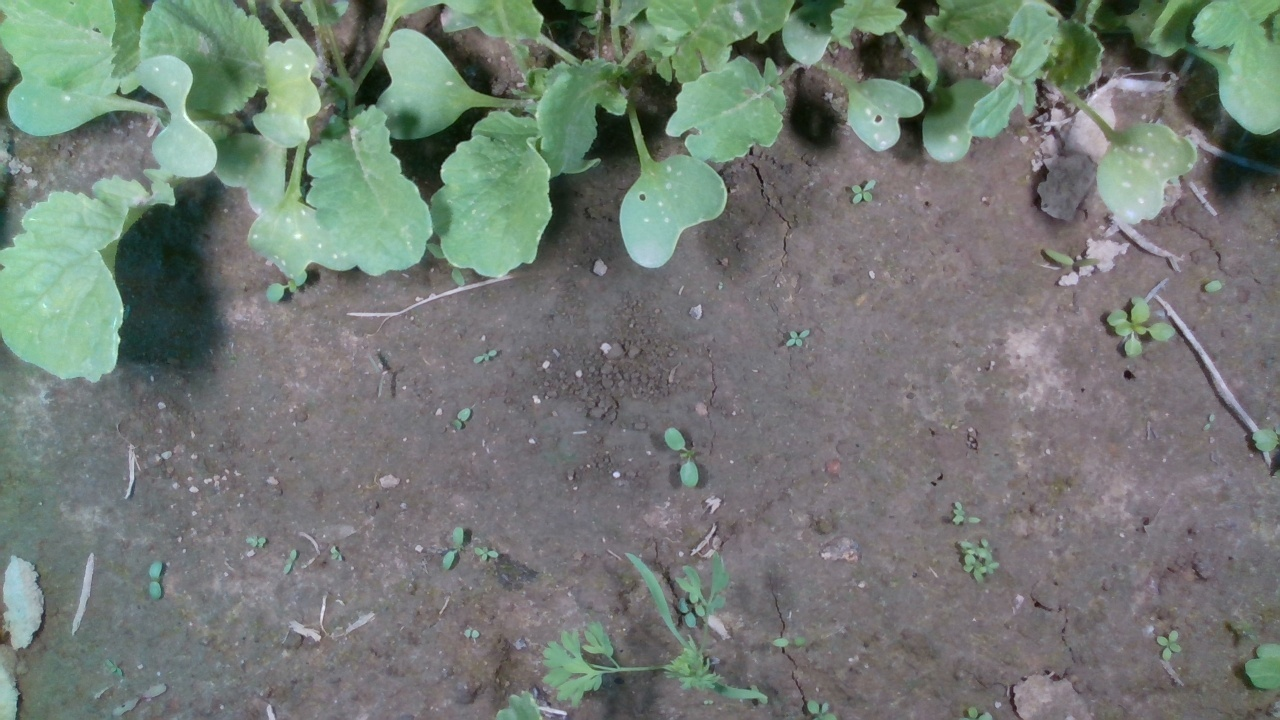weed: (664, 427, 700, 488), (439, 524, 465, 570), (1155, 629, 1182, 661), (145, 559, 163, 601), (851, 177, 879, 203), (784, 329, 811, 349), (473, 545, 500, 563), (279, 547, 296, 575), (768, 637, 811, 648), (473, 350, 499, 363)
